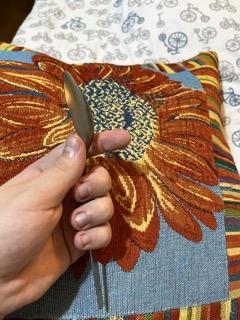spoon: (59, 68, 109, 312)
